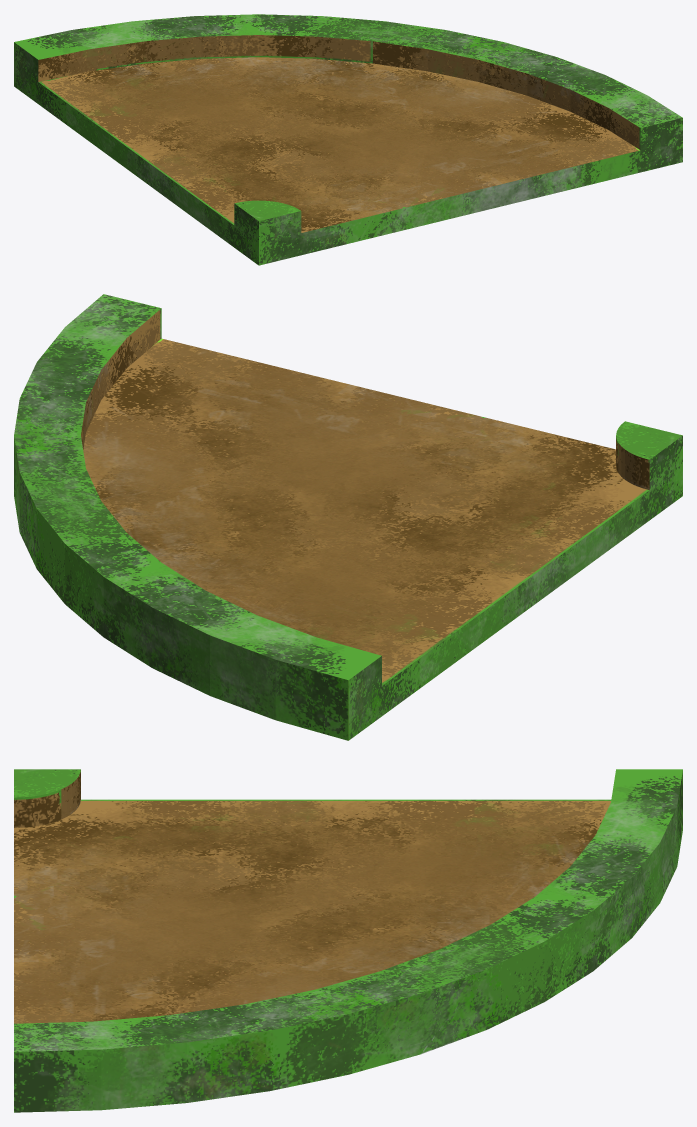
Rendered from Street5.fbx.
3 views of the same model, one above another, from view 1: azimuth 30°, elevation 25°; view 2: azimuth 150°, elevation 25°; view 3: azimuth 270°, elevation 25° (orthographic). The views are drawn at different scales.
Parts seen in each view (by area): view 1: Street5; view 2: Street5; view 3: Street5.
Part boxes in pixels (bbox=[...]): Street5: bbox=[14, 14, 682, 265]; Street5: bbox=[14, 294, 682, 740]; Street5: bbox=[14, 769, 682, 1112].
Bounding box in the file's own units: 200 × 20 × 200.
Materials: 1 (1 with a texture image).
